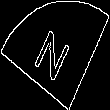N_SW: (32, 22, 78, 88)
